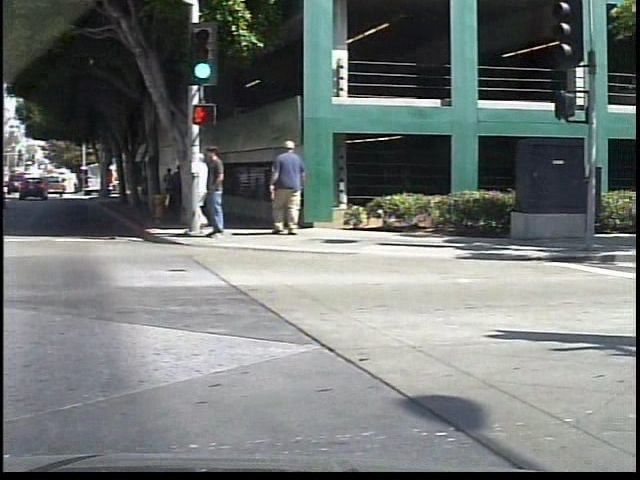person: (266, 140, 320, 237), (198, 139, 237, 245), (191, 148, 218, 230), (175, 164, 189, 220)
